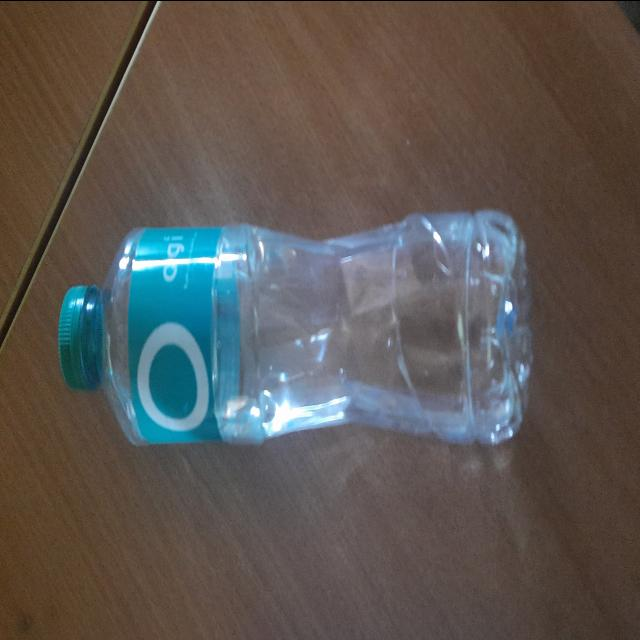plastic: (58, 206, 536, 446)
